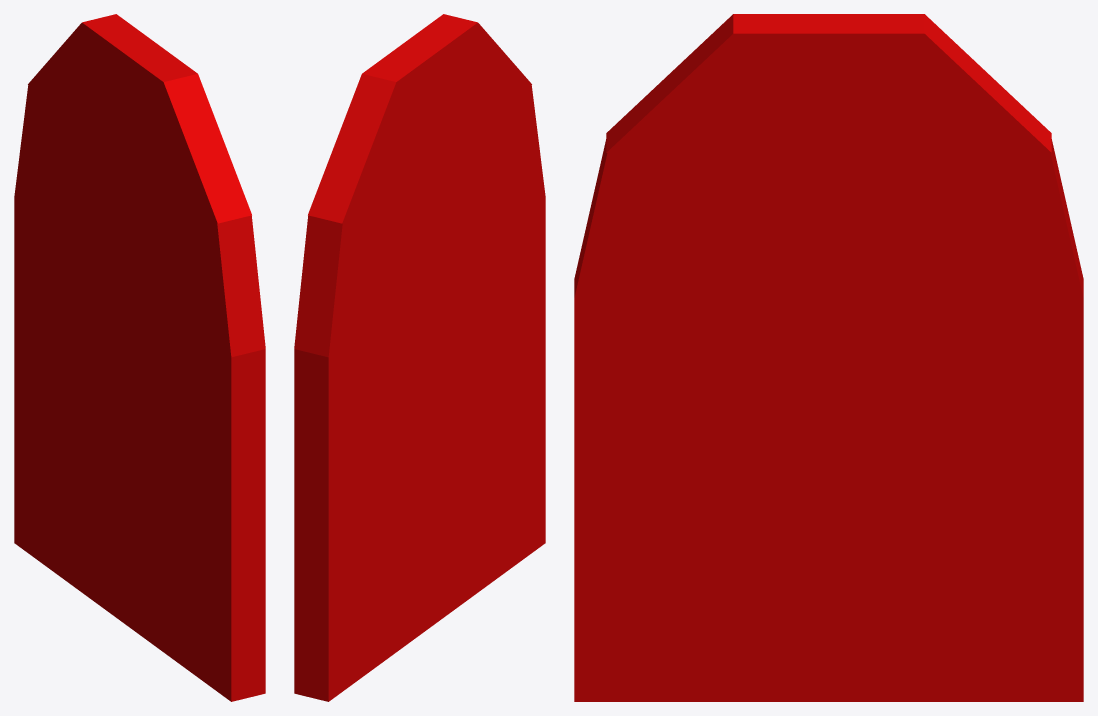
Rendered from Door05Collider.fbx.
3 views of the same model, side by side, from view 1: azimuth 30°, elevation 25°; view 2: azimuth 150°, elevation 25°; view 3: azimuth 270°, elevation 25° (orthographic). The views are drawn at different scales.
Visible parts, largest first — view 1: Door05Collision; view 2: Door05Collision; view 3: Door05Collision.
Boxes of the visible parts, <box> form: Door05Collision: <box>14,14,265,701</box>; Door05Collision: <box>294,14,545,701</box>; Door05Collision: <box>574,14,1083,701</box>.
Size of the model in its own units: 13.24 by 209 by 144.
